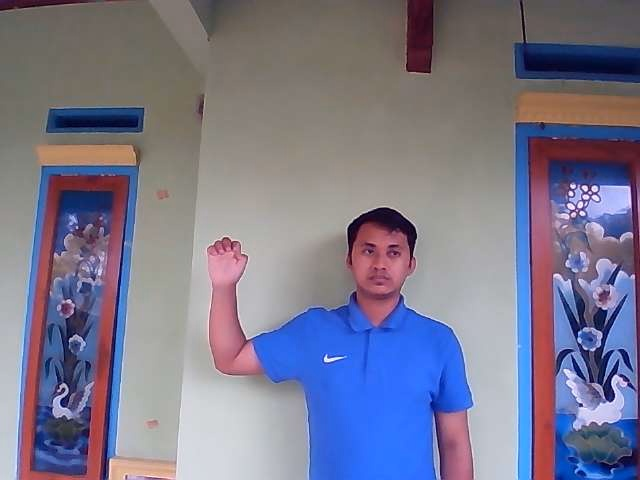E: (206, 237, 249, 286)
